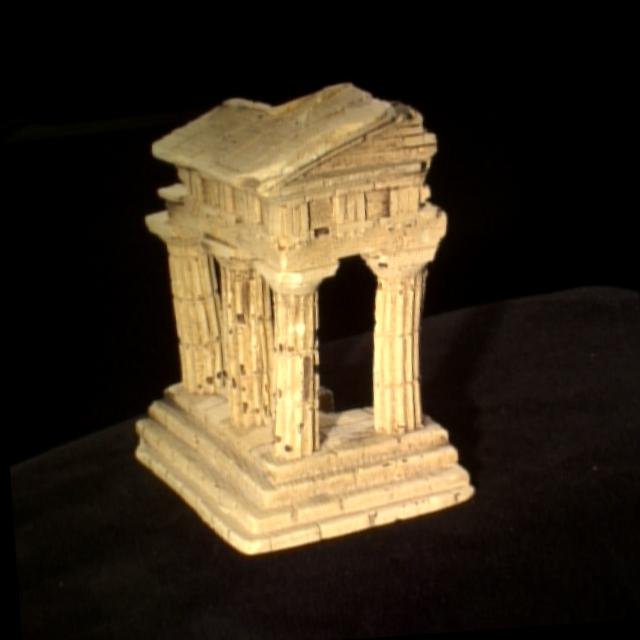Instance-Segmentation: (136, 83, 472, 551)
